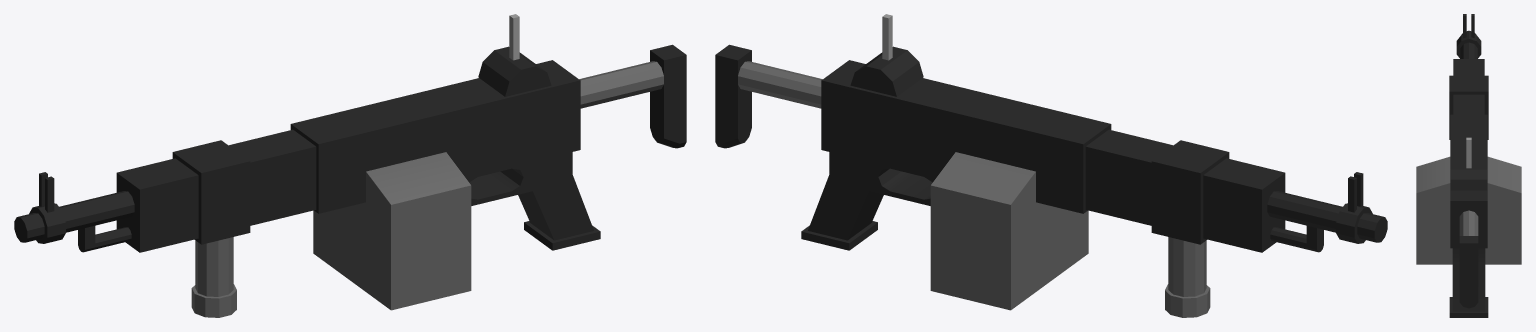
Rendered from LMG.fbx.
The picture shows the model from 3 angles, left to right: view 1: azimuth 30°, elevation 25°; view 2: azimuth 150°, elevation 25°; view 3: azimuth 270°, elevation 25°; orthographic projection. The views are drawn at different scales.
Visible parts, largest first — view 1: LMG; view 2: LMG; view 3: LMG.
Part boxes in pixels (x1=…): LMG: x1=14, y1=14, x2=686, y2=317; LMG: x1=715, y1=14, x2=1387, y2=317; LMG: x1=1416, y1=14, x2=1521, y2=317.
Bounding box in the file's own units: 101 × 33.65 × 20.69.
